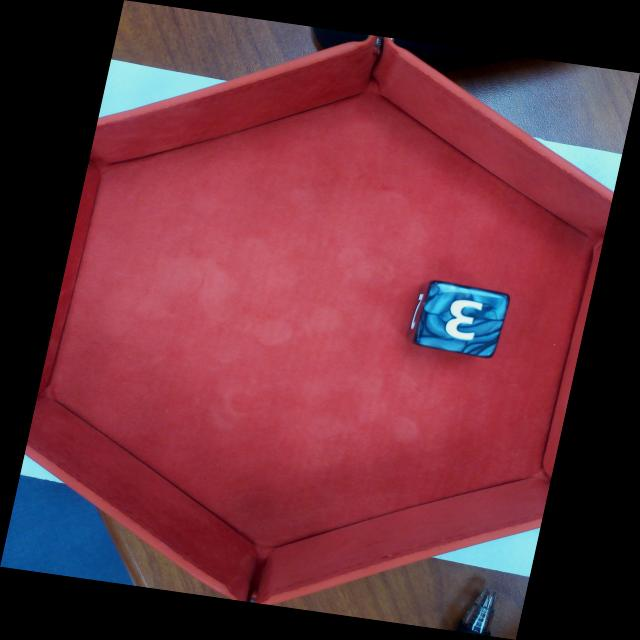dice: (419, 281, 510, 356)
